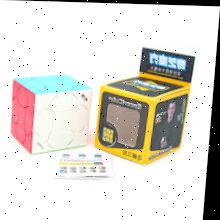cube: (94, 75, 193, 167), (7, 73, 94, 155)
